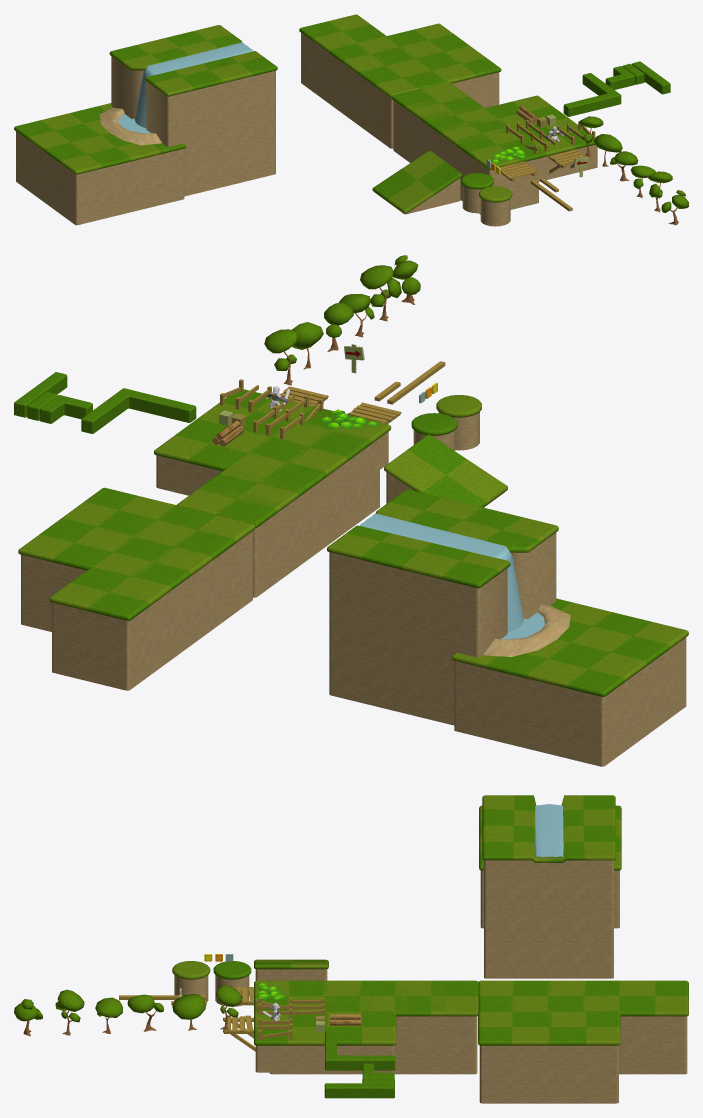
Rendered from Platformer_assets.fbx.
The picture shows the model from 3 angles, top to bottom: view 1: azimuth 30°, elevation 25°; view 2: azimuth 150°, elevation 25°; view 3: azimuth 270°, elevation 25°; orthographic projection. The views are drawn at different scales.
Parts seen in each view (by area): view 1: Set2_10, Set2_11, Set2_1, Set2_12, Set2_2, Set1_1, Set1_9, Set1_2, Set2_5, Set1_5, water1, Grass_bush1 (+14 smaller); view 2: Set2_10, Set2_11, Set2_1, Set2_2, Set1_1, Set2_12, Set2_5, Set1_9, Set1_5, water1, Grass_bush1, Set1_3 (+14 smaller); view 3: Set2_10, Set2_1, Set2_2, Set1_1, Set1_2, Set2_12, Set2_5, Set1_9, Set2_3, water1, Grass_bush1, Set2_11 (+14 smaller).
Part boxes in pixels (x1,y1,x2,y2): Set2_10: [109, 25, 277, 196]; Set2_11: [14, 103, 186, 225]; Set2_1: [329, 23, 501, 148]; Set2_12: [391, 82, 538, 214]; Set2_2: [299, 14, 446, 148]; Set1_1: [427, 95, 597, 179]; Set1_9: [372, 150, 462, 214]; Set1_2: [401, 86, 545, 189]; Set2_5: [344, 41, 473, 147]; Set1_5: [442, 115, 572, 175]; water1: [134, 42, 253, 127]; Grass_bush1: [563, 73, 621, 116]; Set2_10: [327, 489, 558, 725]; Set2_11: [451, 598, 688, 766]; Set2_1: [18, 487, 218, 659]; Set2_2: [49, 524, 254, 690]; Set1_1: [154, 389, 387, 522]; Set2_12: [177, 413, 379, 597]; Set2_5: [78, 496, 254, 644]; Set1_9: [384, 434, 507, 507]; Set1_5: [218, 400, 390, 508]; water1: [360, 513, 523, 631]; Grass_bush1: [81, 388, 196, 433]; Set1_3: [230, 409, 368, 484]; Set2_10: [482, 795, 615, 978]; Set2_1: [478, 980, 620, 1103]; Set2_2: [480, 980, 688, 1074]; Set1_1: [254, 980, 396, 1072]; Set1_2: [254, 981, 461, 1043]; Set2_12: [270, 980, 478, 1074]; Set2_5: [478, 980, 584, 1028]; Set1_9: [254, 959, 328, 980]; Set2_3: [481, 981, 616, 1011]; water1: [534, 804, 563, 857]; Grass_bush1: [325, 1031, 395, 1070]; Set2_11: [479, 805, 621, 928].
Size of the model in its own units: 40.19 by 7.93 by 39.04.
